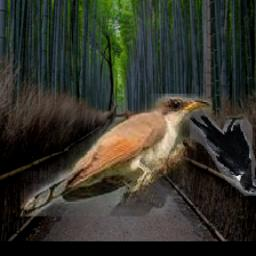Crow: (190, 112, 256, 197)
Cuckoo: (21, 94, 213, 216)
